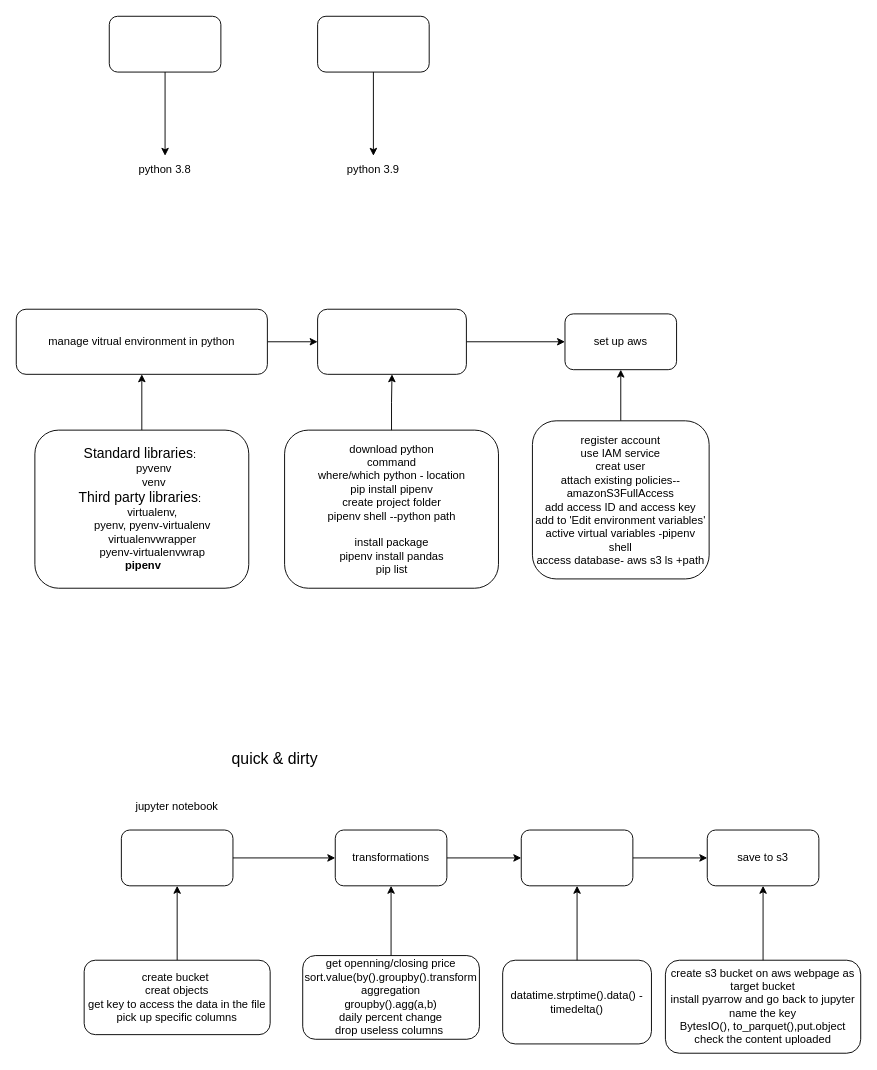
Image size: 877x1070. Some labels were removed from this diagram. Here are the shapes that lost their labels. From the top down, the box of each, then its label:
(108, 15, 221, 72): project A
(317, 15, 429, 72): project B
(317, 308, 466, 374): set up virtural environment
(120, 829, 233, 886): read multipule files
(520, 829, 633, 886): arguement date
